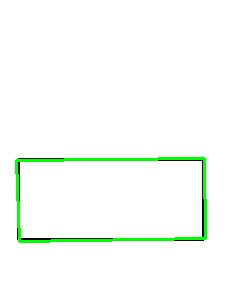line_segment: (16, 157, 206, 242)
